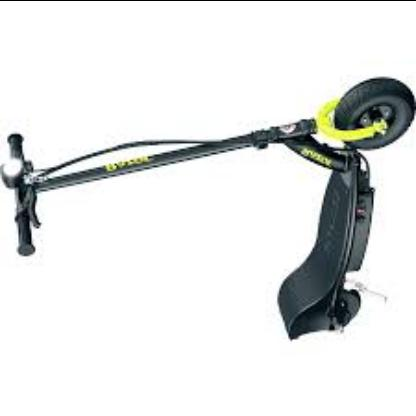bike: (0, 76, 416, 345)
